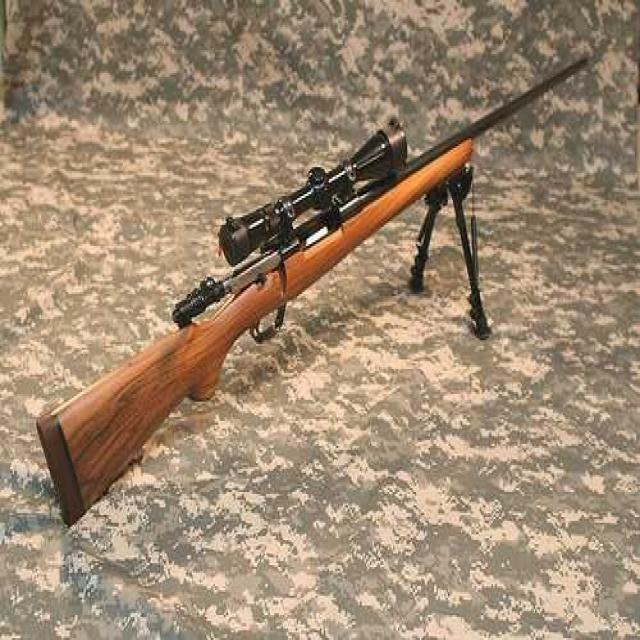weapon: (33, 9, 604, 552)
